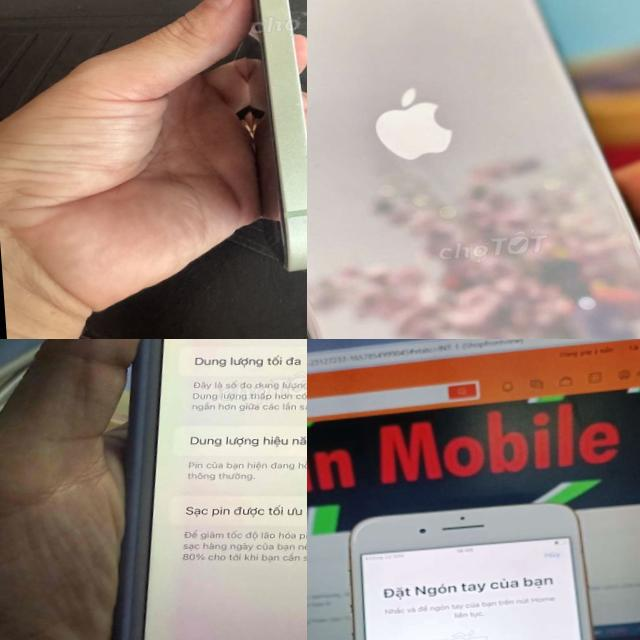gen_12_13: (211, 0, 307, 278)
gen_7_8: (60, 339, 307, 640), (314, 489, 628, 640)
gen_x_xs: (307, 0, 640, 339)
